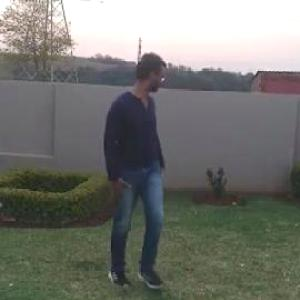follow: (104, 51, 173, 256)
